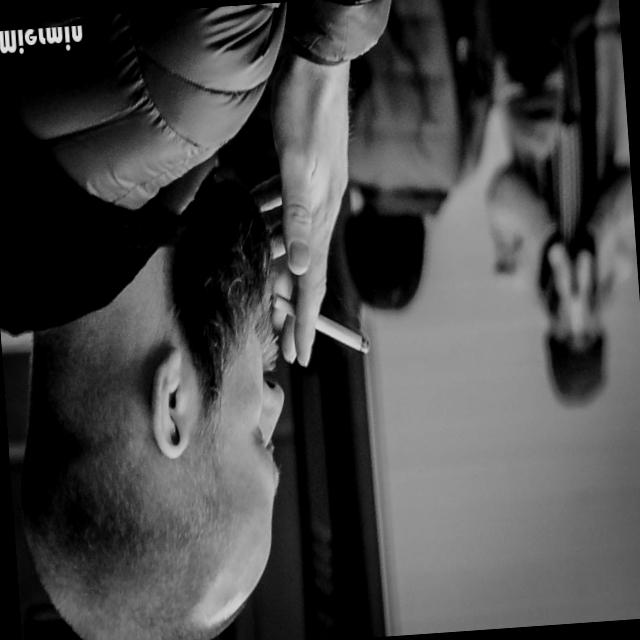cigarette: (264, 281, 378, 377)
